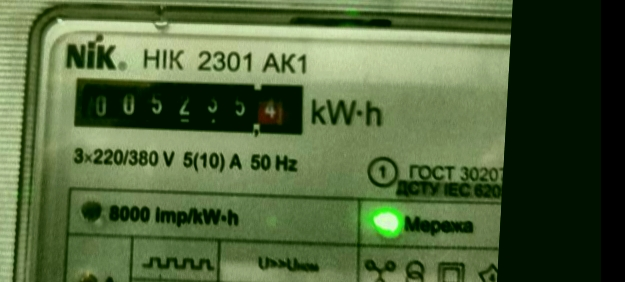0: (92, 90, 108, 116), (120, 90, 136, 115)
2: (175, 89, 192, 116)
3: (202, 88, 220, 114)
4: (260, 91, 279, 121)
5: (230, 88, 247, 117), (148, 89, 163, 114)
screen: (60, 61, 313, 147)
